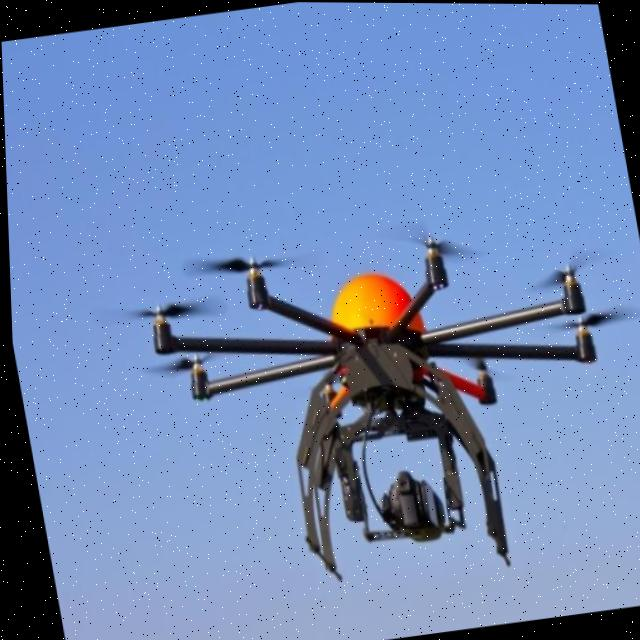drones: (103, 163, 640, 603)
